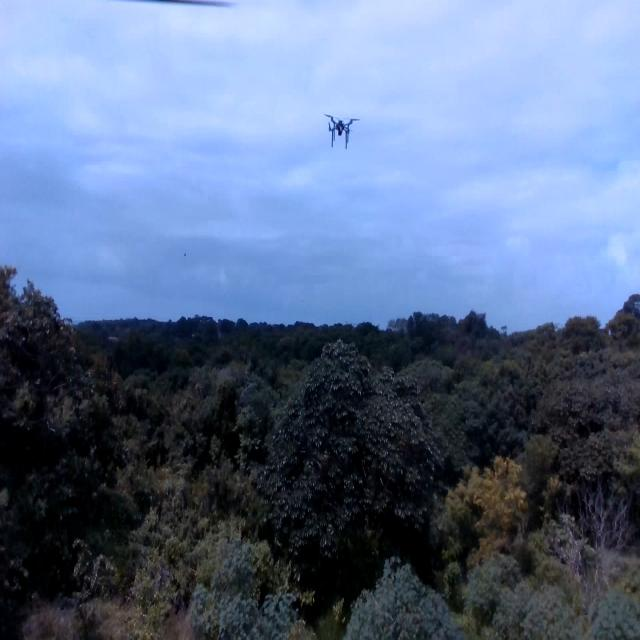-uav-: (322, 104, 362, 158)
